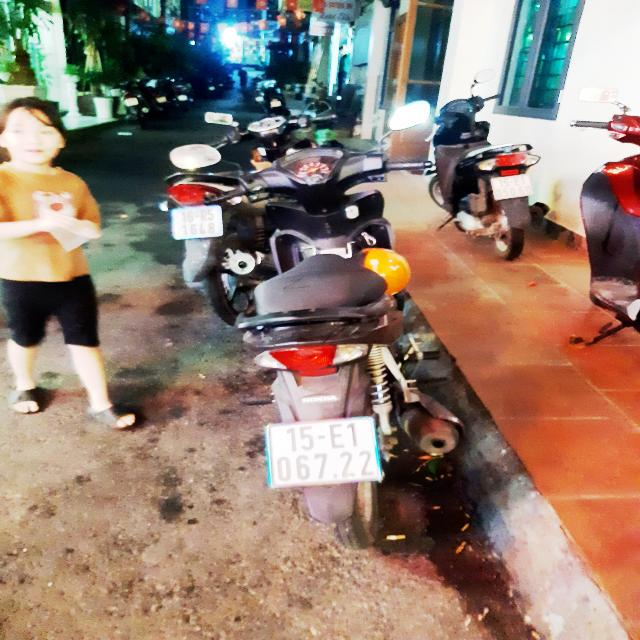license_plate: (258, 409, 396, 495), (169, 204, 228, 242), (486, 171, 538, 204)
